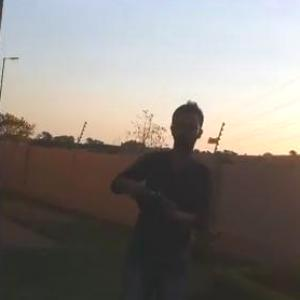follow: (105, 94, 220, 299)
